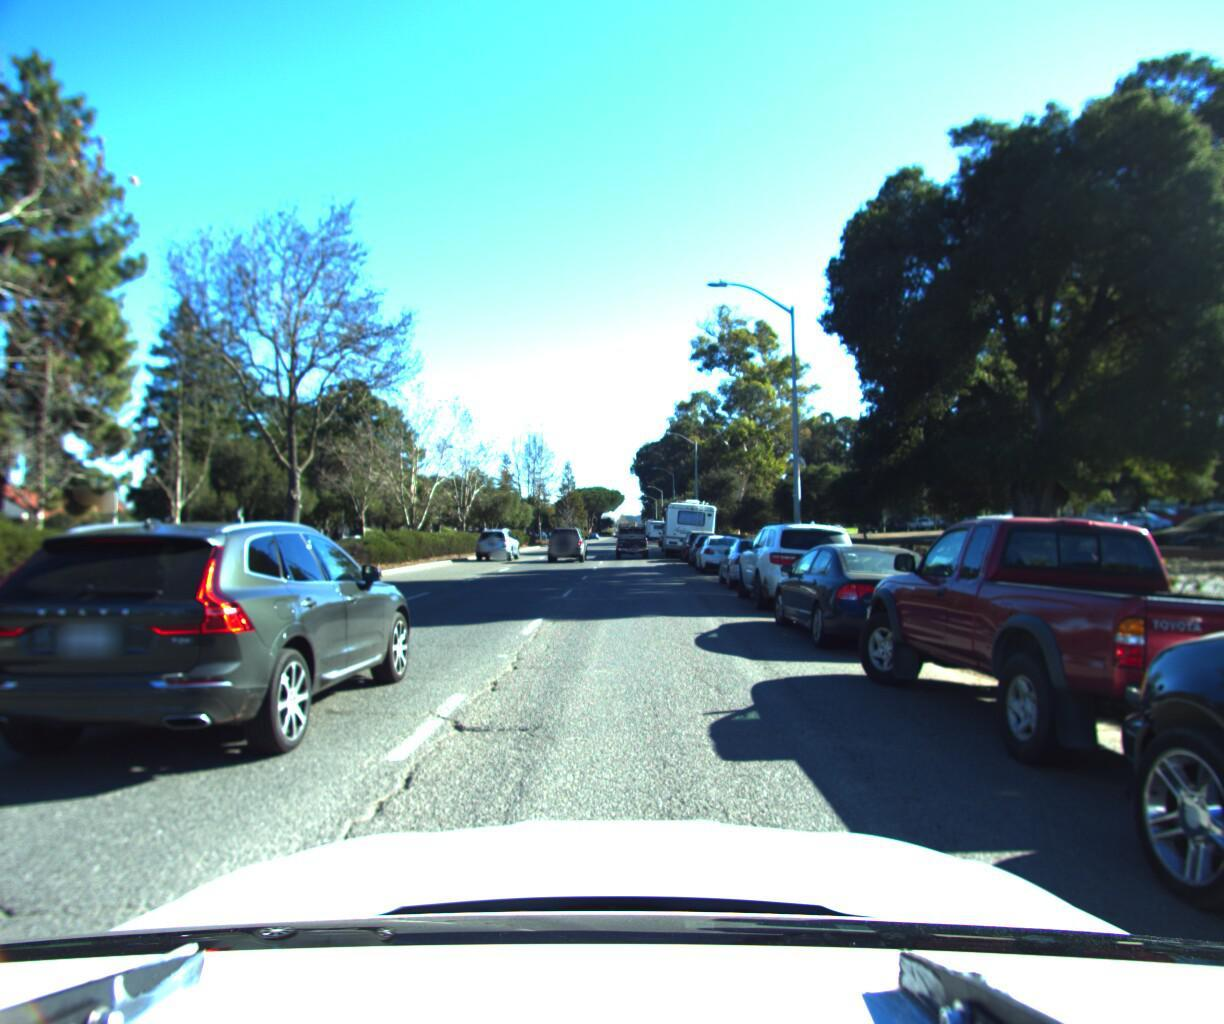car: (848, 488, 1224, 825), (0, 515, 430, 798), (767, 536, 968, 656), (730, 514, 879, 614), (981, 505, 1130, 556), (715, 532, 801, 586), (691, 530, 752, 571), (544, 522, 590, 562), (611, 513, 654, 555), (686, 528, 734, 563), (476, 527, 521, 562), (678, 526, 720, 560)
other_vehicle: (661, 494, 717, 554)
